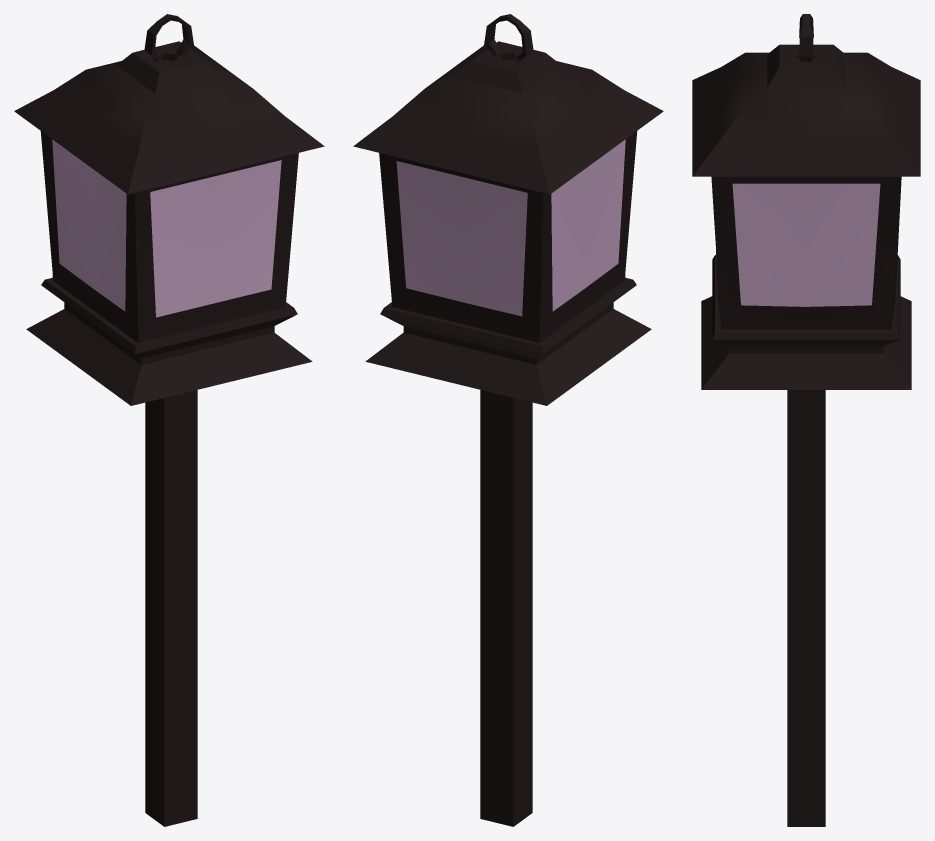
Rendered from prop_Lantern_06.fbx.
3 views of the same model, side by side, from view 1: azimuth 30°, elevation 25°; view 2: azimuth 150°, elevation 25°; view 3: azimuth 270°, elevation 25° (orthographic).
Visible parts, largest first — view 1: Lantern_05; view 2: Lantern_05; view 3: Lantern_05.
Part boxes in pixels (box(x1,y1,x2,y2)): Lantern_05: box(14, 14, 324, 826); Lantern_05: box(353, 14, 663, 826); Lantern_05: box(692, 14, 920, 826).
Bounding box in the file's own units: 32.85 × 128 × 32.85.
